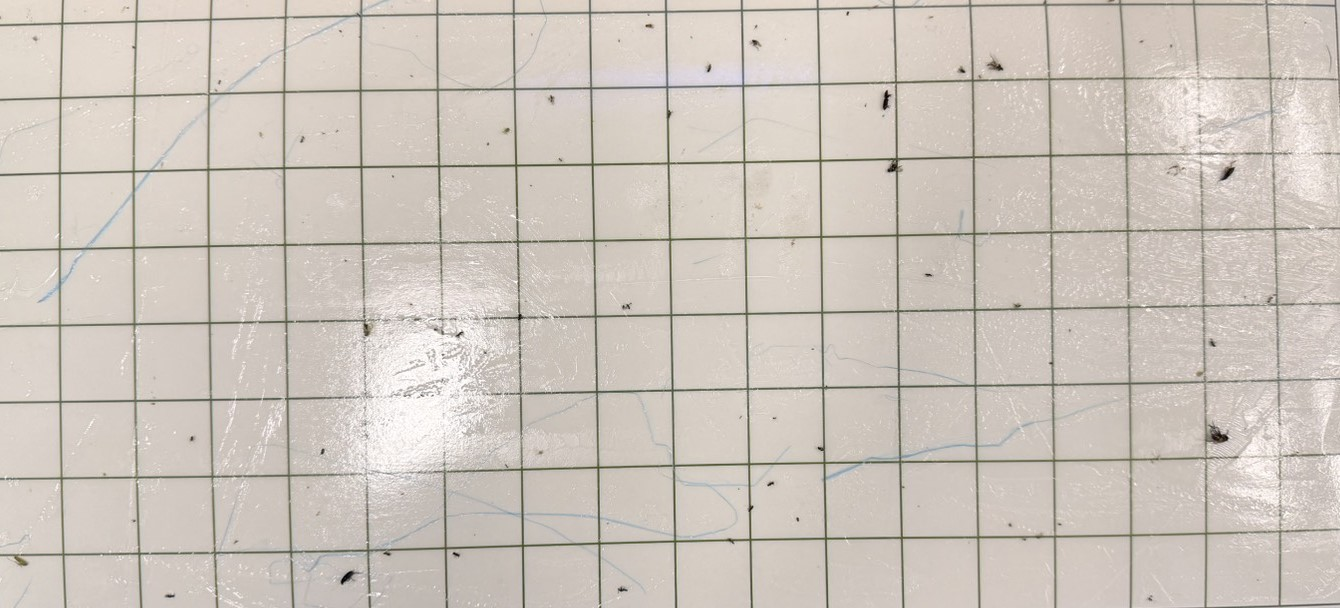fly: (885, 158, 904, 175)
test: (1205, 423, 1230, 447), (338, 568, 361, 587), (1220, 163, 1237, 184), (987, 55, 1005, 72), (881, 89, 893, 111), (11, 554, 29, 568), (620, 300, 633, 313), (748, 38, 763, 49), (545, 92, 557, 105), (163, 592, 178, 601), (453, 329, 465, 340), (663, 107, 673, 120), (643, 21, 656, 31), (318, 445, 328, 457), (381, 550, 394, 559), (816, 444, 827, 454), (617, 586, 629, 595), (515, 312, 525, 322), (726, 537, 737, 546), (503, 126, 512, 137), (1209, 337, 1217, 349), (765, 479, 775, 488), (747, 503, 756, 513), (452, 550, 462, 559), (705, 63, 714, 73), (957, 65, 966, 75), (924, 271, 934, 279), (189, 434, 197, 444), (362, 322, 370, 332), (298, 134, 306, 144), (1266, 296, 1274, 305), (1147, 595, 1155, 603), (537, 449, 545, 457), (1013, 302, 1022, 309), (258, 130, 264, 140), (1006, 521, 1014, 528), (1035, 533, 1042, 541), (558, 155, 564, 164), (1057, 521, 1064, 528), (355, 12, 362, 19), (232, 539, 239, 546), (927, 14, 935, 20), (795, 516, 801, 523), (1047, 360, 1054, 366), (771, 415, 778, 421), (845, 10, 851, 17), (753, 23, 759, 30), (216, 79, 223, 85), (320, 130, 327, 136), (102, 471, 108, 478), (977, 73, 983, 80), (824, 384, 830, 391), (881, 113, 887, 119), (409, 73, 415, 79), (334, 128, 340, 134), (504, 463, 510, 469), (482, 349, 488, 355), (131, 518, 137, 524), (32, 36, 38, 42), (1169, 42, 1174, 49), (150, 401, 157, 406), (1139, 39, 1145, 44), (616, 38, 621, 44), (863, 102, 868, 108), (338, 28, 343, 34), (390, 174, 395, 180), (1303, 20, 1308, 26), (810, 347, 816, 352), (214, 87, 218, 94), (689, 35, 694, 40), (485, 141, 490, 146), (433, 327, 438, 332), (901, 485, 906, 490), (1068, 328, 1073, 333), (738, 414, 743, 419), (131, 45, 137, 49), (343, 259, 348, 263), (409, 302, 413, 307), (646, 12, 650, 16)
